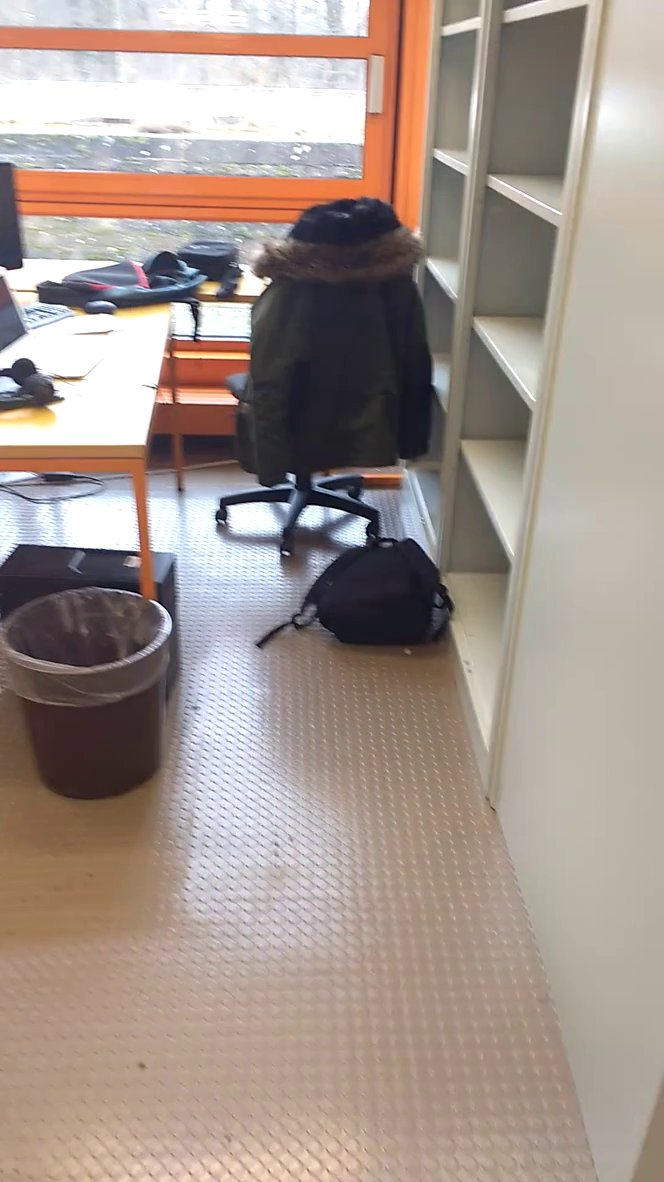bag: (252, 528, 458, 673)
bin: (1, 573, 192, 811)
